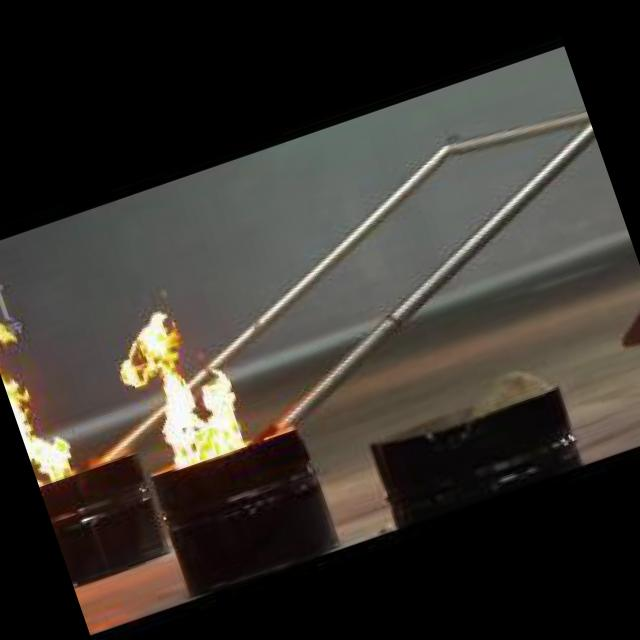fire: (106, 284, 270, 476), (0, 281, 111, 505)
